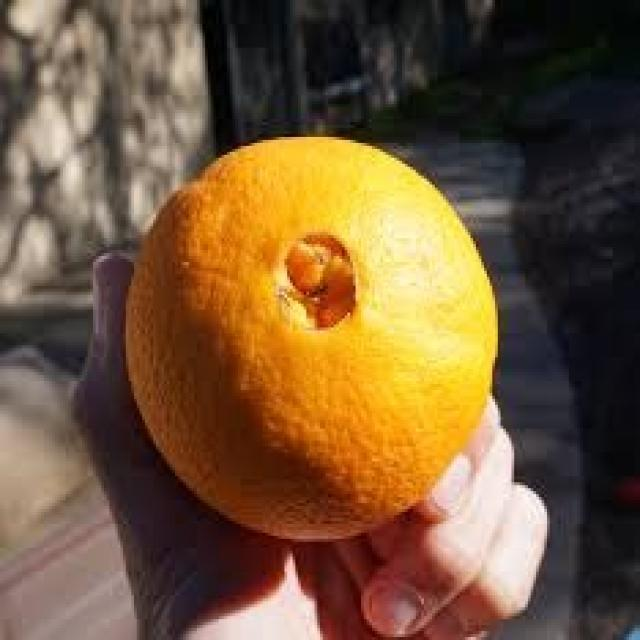Good_Orange: (126, 137, 498, 542)
